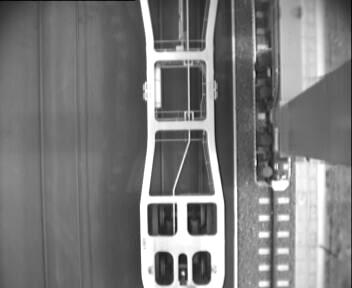wagon_scan: (150, 248, 215, 286)
